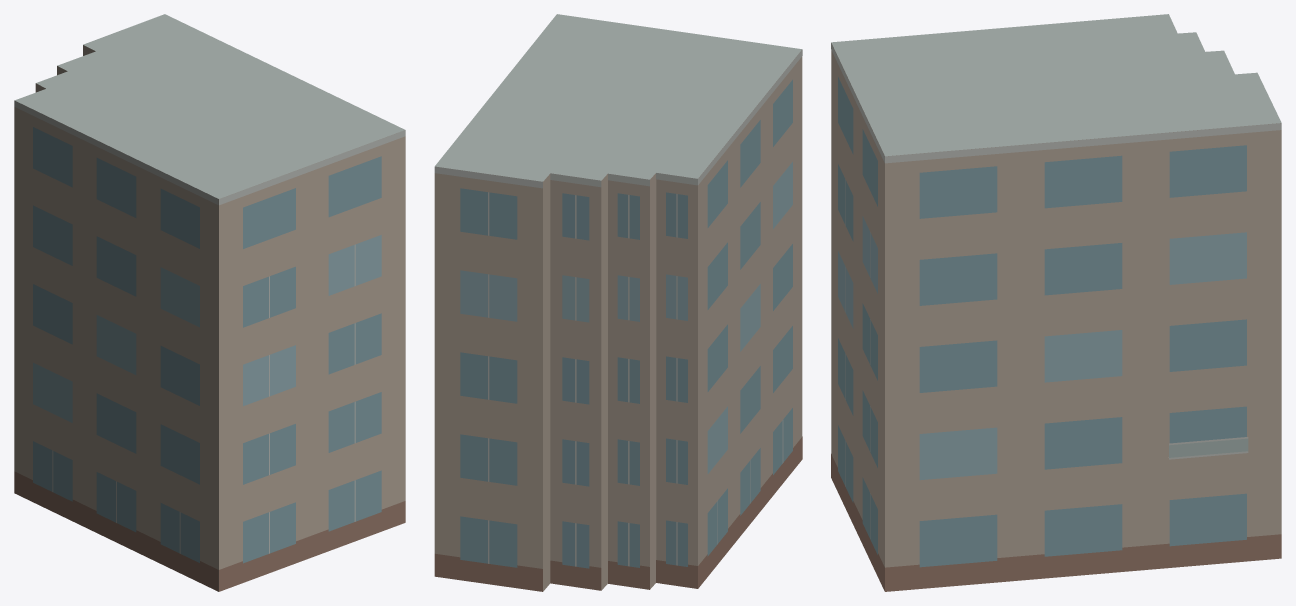
Rendered from survey-upis-33011321.glb.
The picture shows the model from 3 angles, left to right: view 1: azimuth 30°, elevation 25°; view 2: azimuth 150°, elevation 25°; view 3: azimuth 270°, elevation 25°; orthographic projection. The views are drawn at different scales.
Visible parts, largest first — view 1: survey-upis-33011321.tmp; view 2: survey-upis-33011321.tmp; view 3: survey-upis-33011321.tmp.
Boxes of the visible parts, bbox=[...] form: survey-upis-33011321.tmp: bbox=[14, 14, 405, 591]; survey-upis-33011321.tmp: bbox=[434, 14, 802, 591]; survey-upis-33011321.tmp: bbox=[831, 14, 1281, 591].
Bounding box in the file's own units: 10.59 × 15.1 × 14.17.
